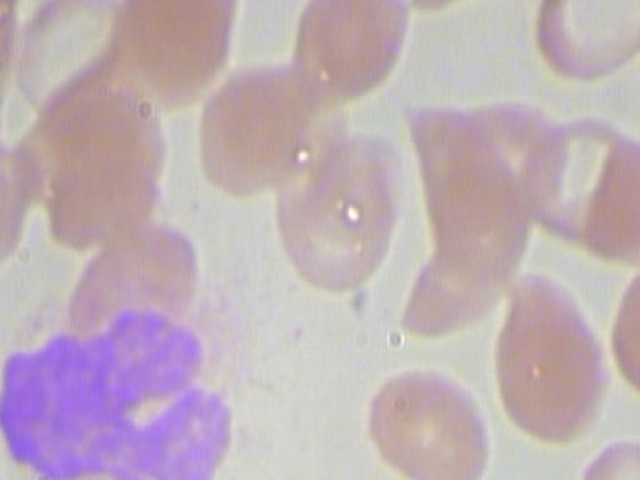RBC: (263, 118, 411, 303), (481, 266, 617, 454), (34, 84, 172, 258), (191, 55, 325, 197), (356, 348, 494, 480), (285, 0, 415, 108), (525, 0, 640, 88), (0, 147, 41, 289), (391, 0, 531, 31)
WBC: (0, 266, 303, 480)
